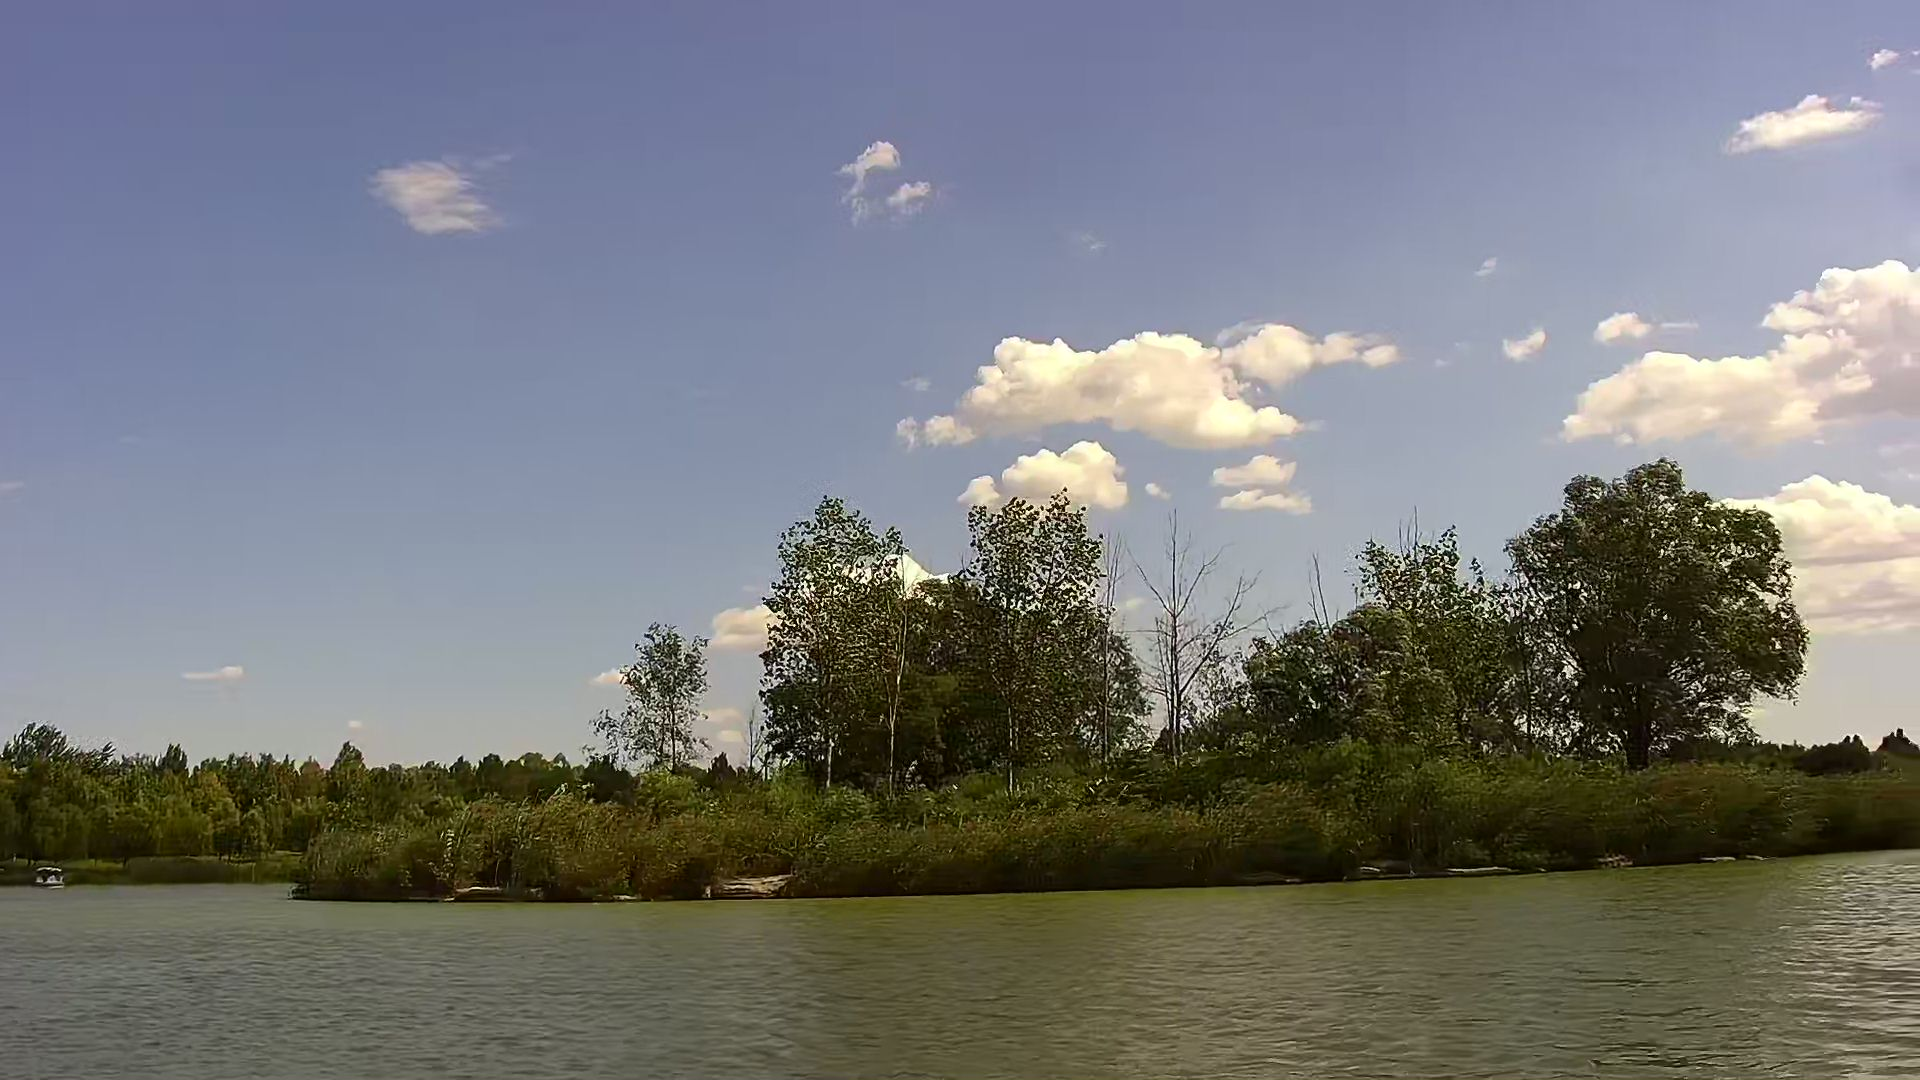boat: (33, 862, 63, 887)
rock: (705, 874, 796, 899), (444, 884, 521, 907)
